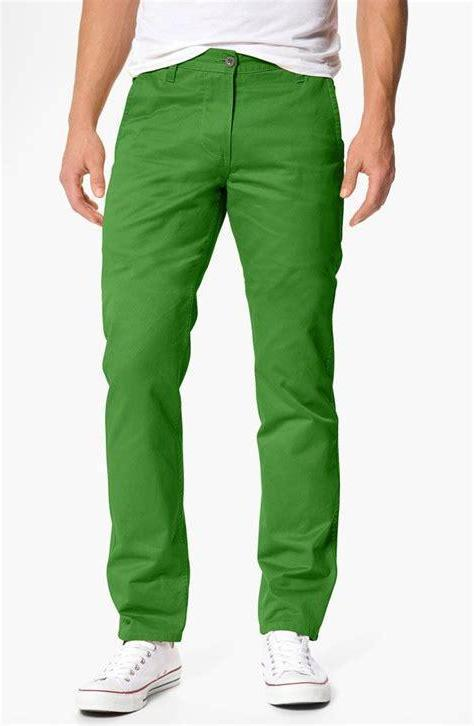short sleeve shirt: (126, 0, 344, 77)
trousers: (97, 47, 347, 642)
